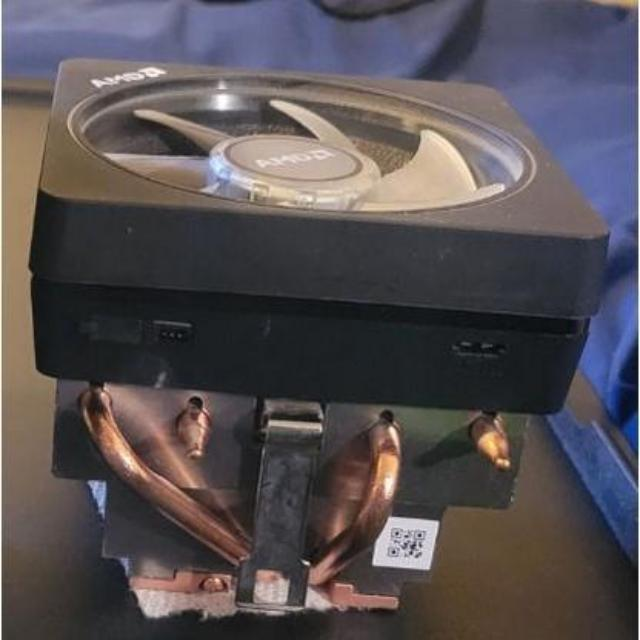CPU_Fan: (52, 59, 586, 619)
